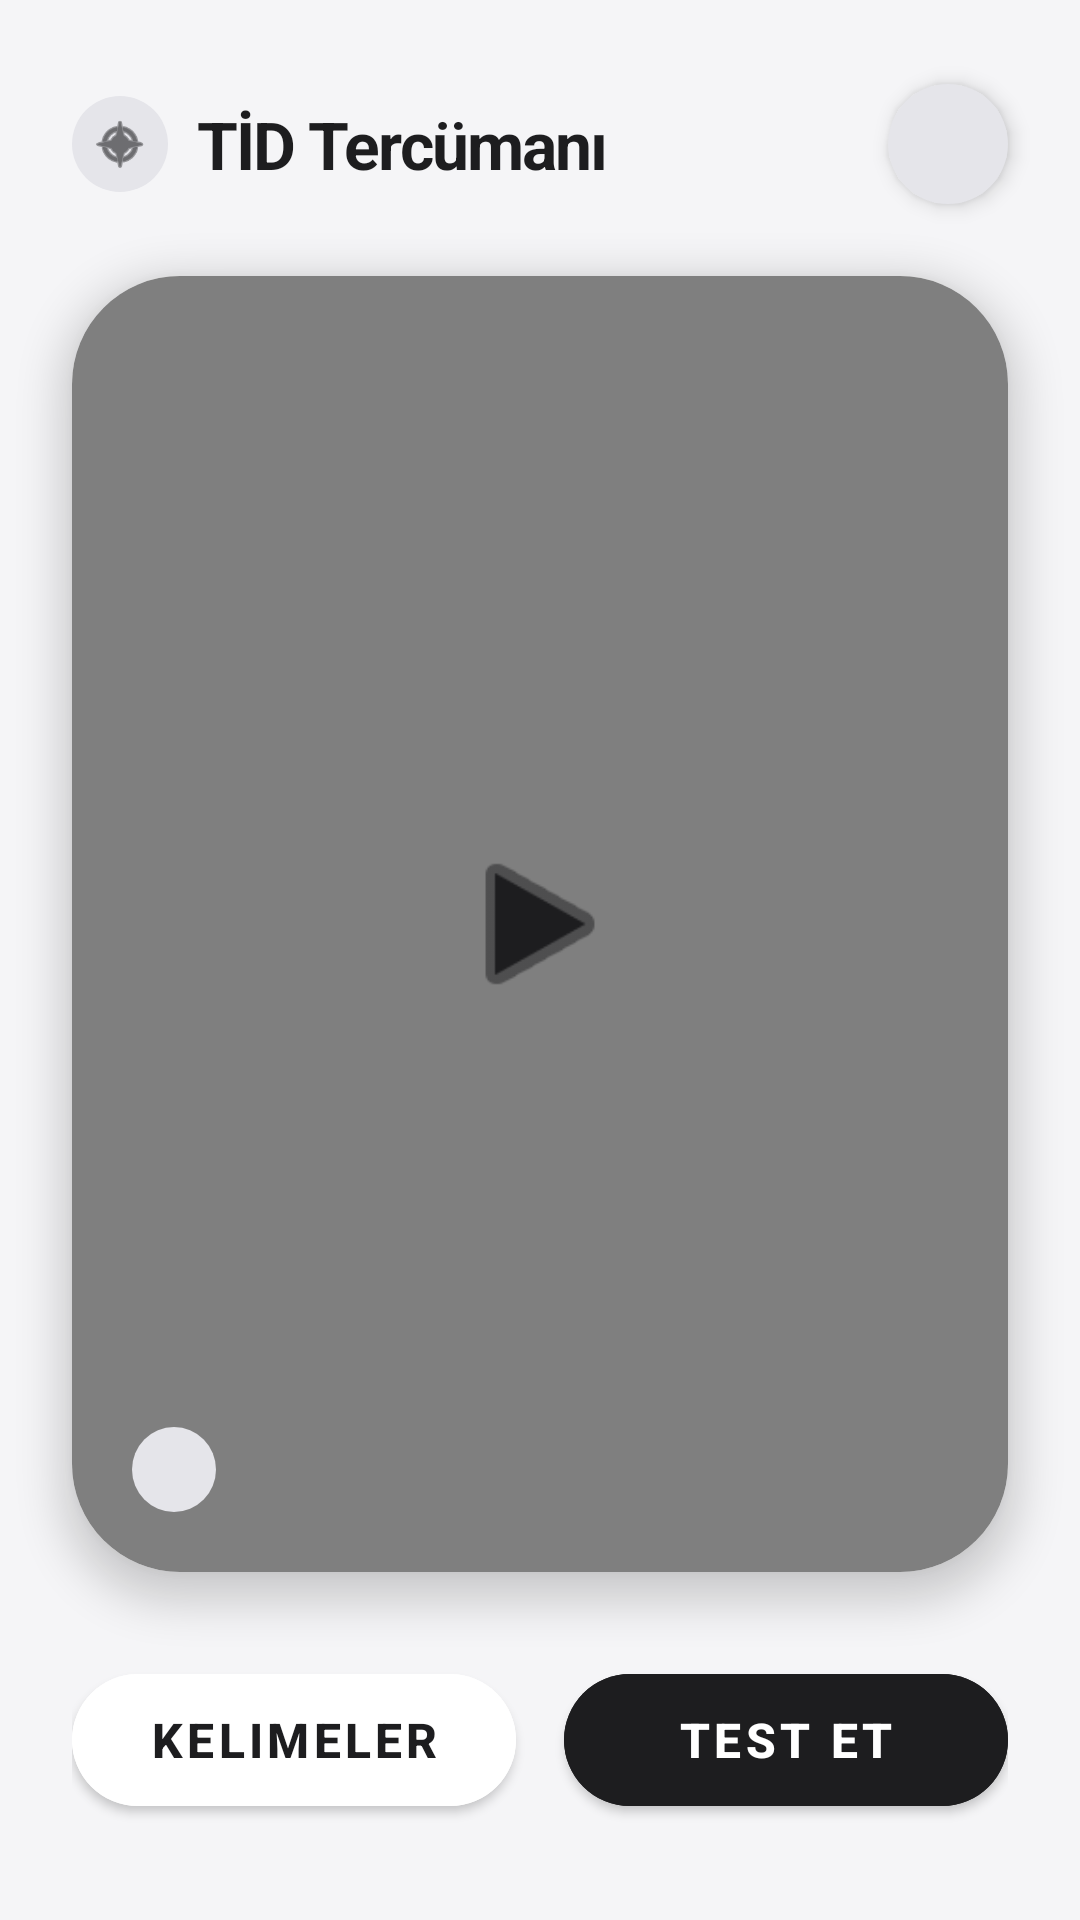

Screen size 1080x1920. Icon name, then its box in pixels as (x1, y1, x2, y2):
compass: (96, 121, 144, 168)
play: (486, 864, 594, 984)
